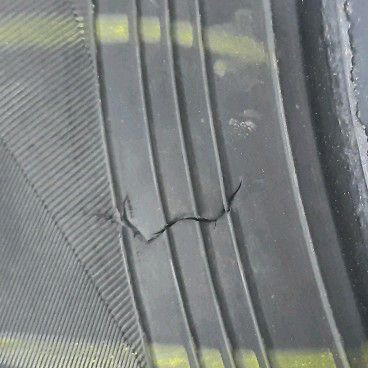cut: (93, 180, 242, 247)
